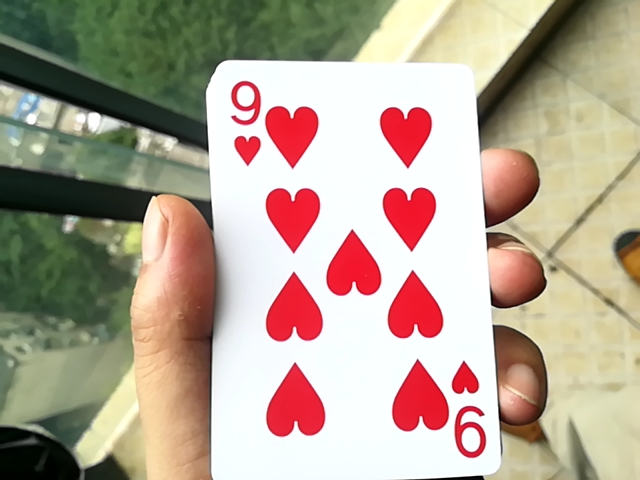hx 9: (180, 57, 496, 480)
